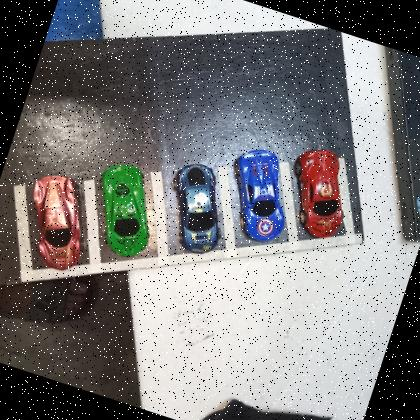Car: (10, 166, 106, 278), (76, 155, 170, 265), (212, 141, 306, 249), (274, 141, 363, 245), (154, 157, 240, 260)
